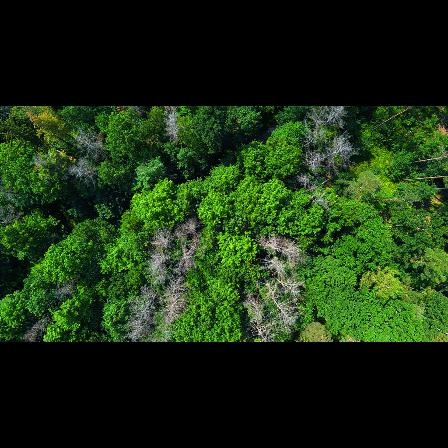Dead: (257, 234, 308, 262), (241, 295, 270, 340), (264, 280, 291, 327), (305, 106, 346, 136), (73, 133, 118, 160), (309, 140, 354, 167), (22, 312, 54, 342), (269, 273, 303, 297), (135, 285, 158, 319), (66, 159, 103, 180), (163, 107, 185, 142), (159, 294, 185, 322), (1, 204, 30, 228), (152, 223, 175, 253), (178, 235, 200, 266), (54, 275, 77, 301), (126, 317, 151, 340), (308, 189, 333, 209), (166, 273, 189, 293), (150, 268, 170, 286), (147, 255, 170, 270), (291, 171, 313, 186), (182, 216, 199, 234), (33, 156, 50, 171)
